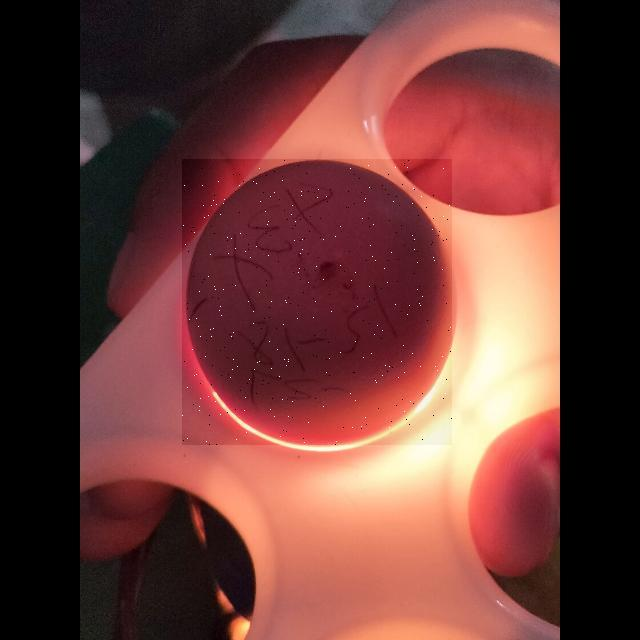Fertile: (182, 159, 452, 445)
